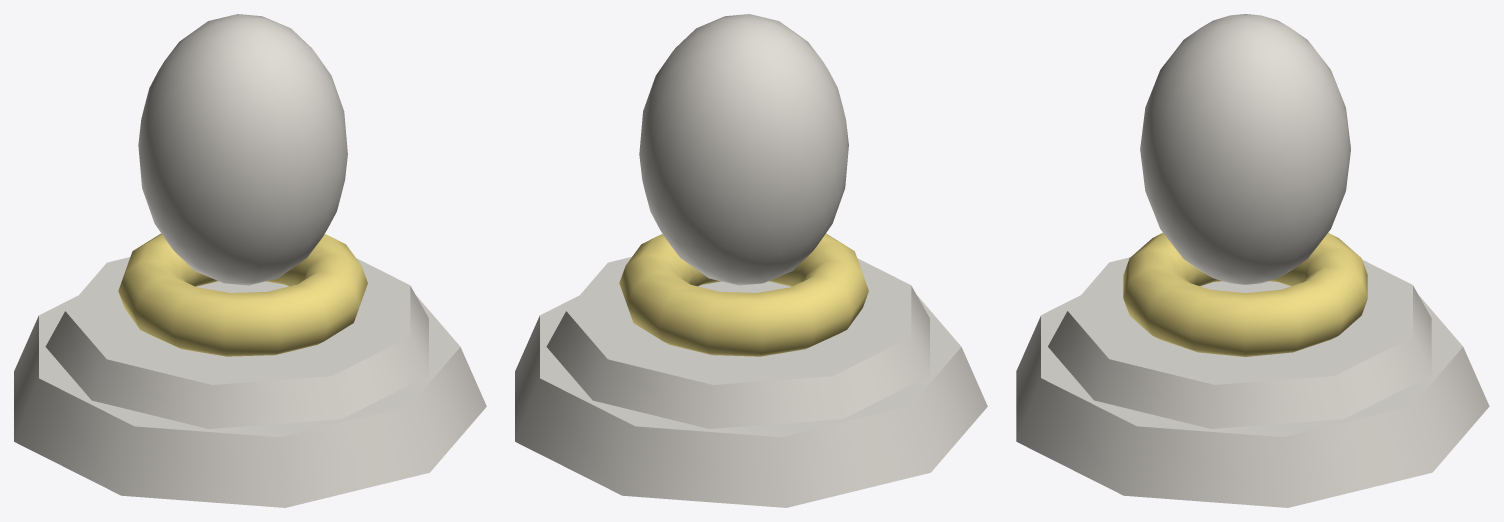
File: HistoriaNatural_Peon.fbx
3 renders of one model, left to right at view 1: azimuth 30°, elevation 25°; view 2: azimuth 150°, elevation 25°; view 3: azimuth 270°, elevation 25°, orthographic.
Parts seen in each view (by area): view 1: HistoriaNatural_Peon; view 2: HistoriaNatural_Peon; view 3: HistoriaNatural_Peon.
Part boxes in pixels (x1,y1,x2,y2): HistoriaNatural_Peon: [14, 14, 486, 507]; HistoriaNatural_Peon: [515, 14, 987, 507]; HistoriaNatural_Peon: [1016, 14, 1489, 507].
Bounding box in the file's own units: 0.7288 × 0.646 × 0.7177.
